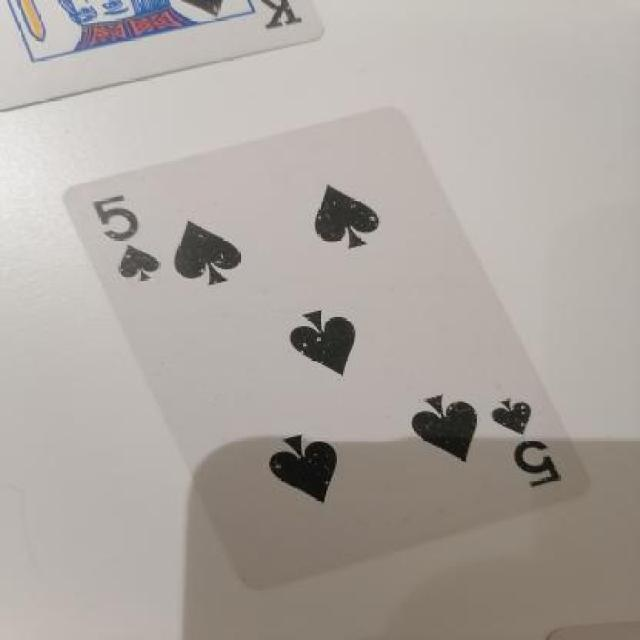5S: (474, 397, 580, 501), (75, 188, 160, 288)
